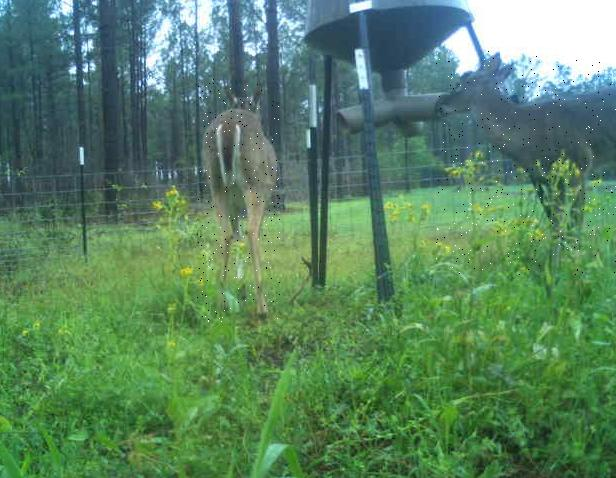Deer: (436, 51, 616, 276), (197, 79, 280, 323)
